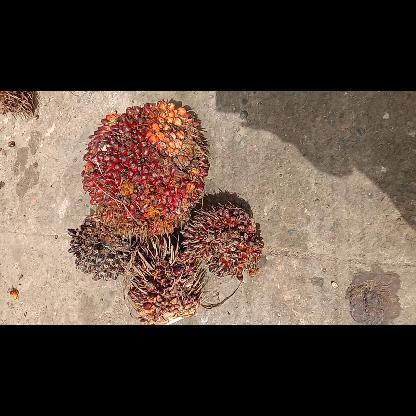TBS abnormal: (126, 238, 208, 324), (178, 202, 266, 278), (64, 212, 142, 284)
TBS masak: (79, 100, 211, 240)
